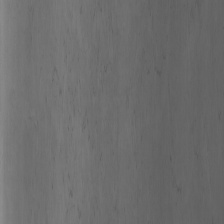silk_spot: (61, 49, 110, 163)
